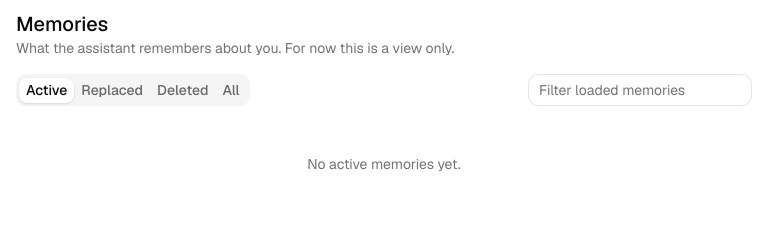
Test: a memory's row › a deleted memory is shown, softened, under its own tab
Click the tab "Deleted" at point(183, 90), box 150,78 -> 216,102
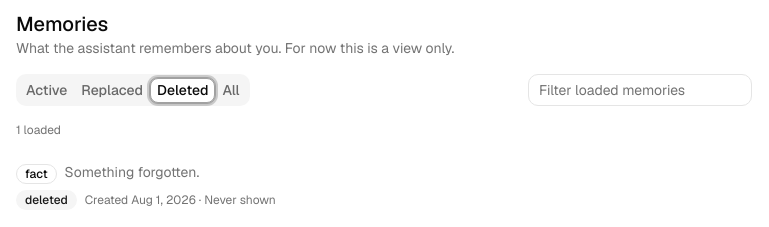
Result: the text "deleted" is shown at 16,190 -> 77,210
